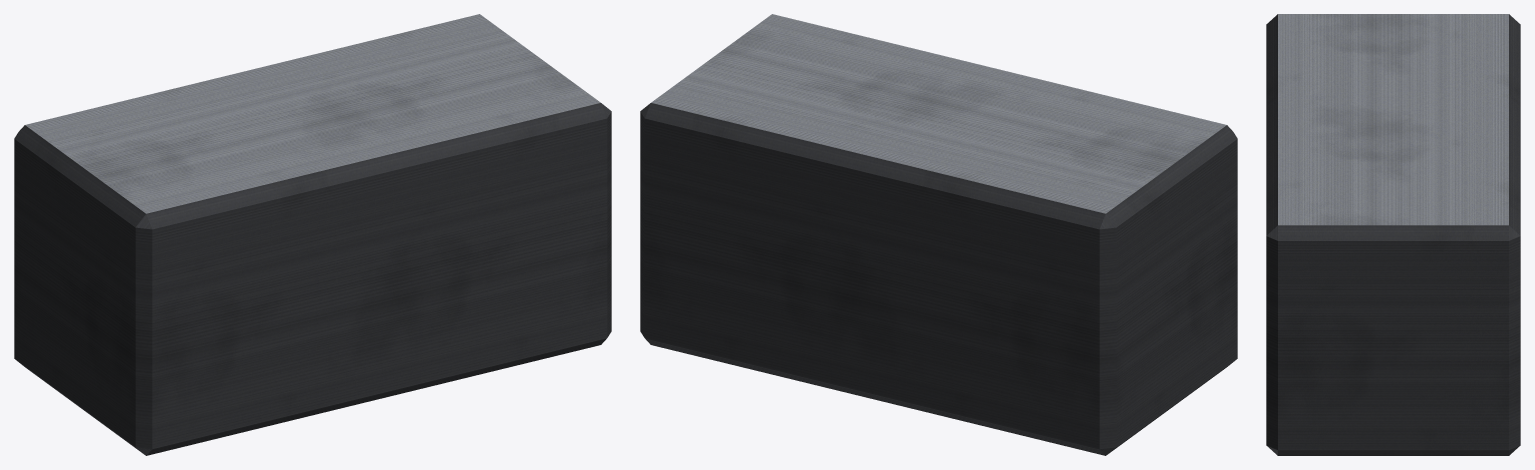
The model's file is R4B_Beam2_LOD1.glb.
The picture shows the model from 3 angles, left to right: view 1: azimuth 30°, elevation 25°; view 2: azimuth 150°, elevation 25°; view 3: azimuth 270°, elevation 25°; orthographic projection. The views are drawn at different scales.
Visible parts, largest first — view 1: R4B_Beam2_LOD1; view 2: R4B_Beam2_LOD1; view 3: R4B_Beam2_LOD1.
Part boxes in pixels (x1=…): R4B_Beam2_LOD1: x1=14, y1=14, x2=611, y2=455; R4B_Beam2_LOD1: x1=640, y1=14, x2=1237, y2=455; R4B_Beam2_LOD1: x1=1266, y1=14, x2=1520, y2=455.
Bounding box in the file's own units: 1.07 × 0.52 × 0.52.
2 materials, 2 textured.
